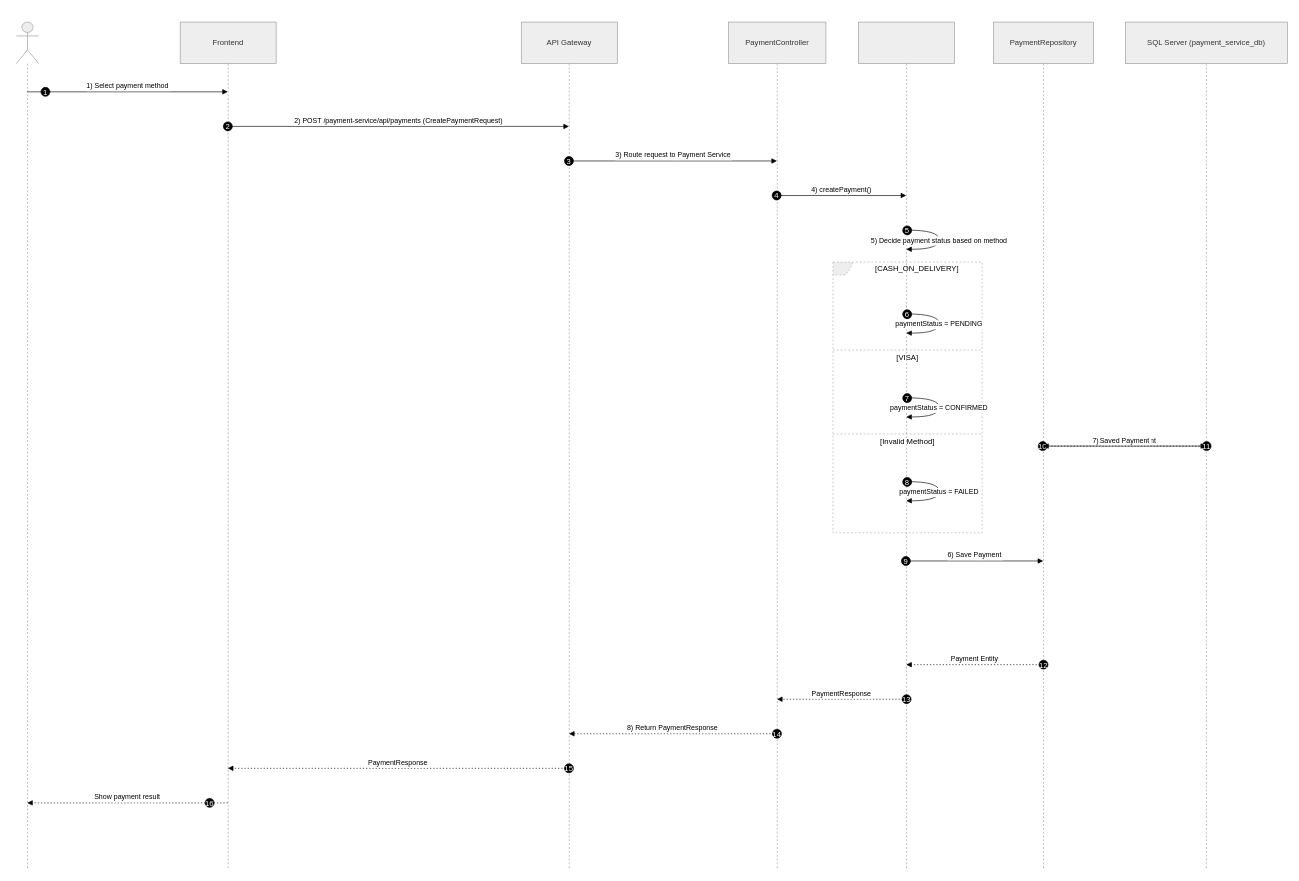
This 1299x881 diagram has some shape labels left out. The box of each missing label's shape, as (x1, y1, x2, y2) in pixels:
alt: (832, 261, 982, 533)
Customer: (16, 21, 39, 870)
PaymentService: (858, 21, 955, 870)
